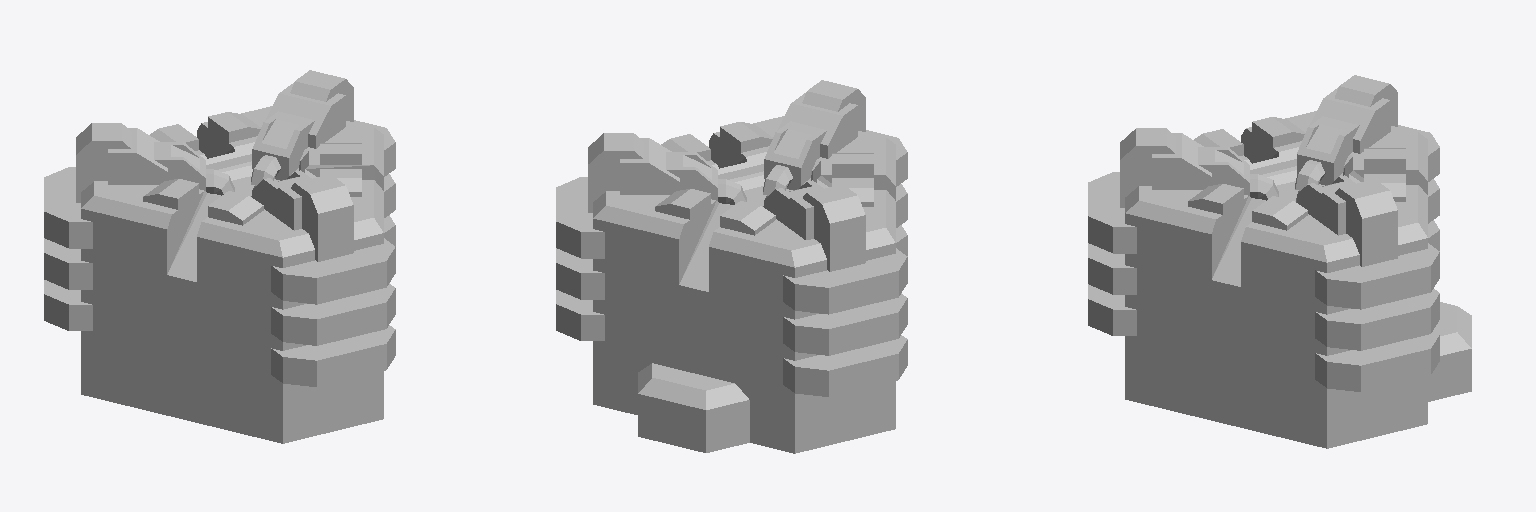
Rendered from rumad_egeo.obj.
3 views of the same model, side by side, from view 1: azimuth 30°, elevation 25°; view 2: azimuth 150°, elevation 25°; view 3: azimuth 270°, elevation 25° (orthographic).
Bounding box in the file's own units: 83.5 × 55.44 × 80.9.